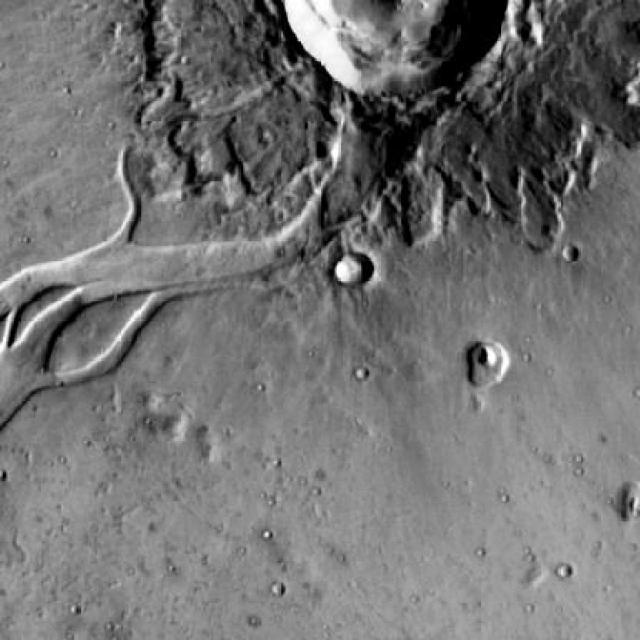crater: (284, 0, 504, 98), (341, 257, 373, 286), (560, 244, 578, 261)
